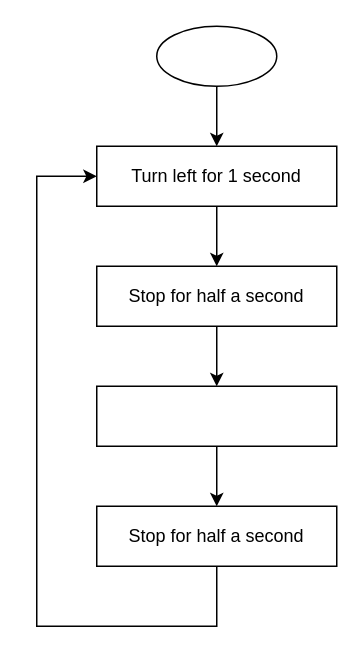
Some shapes in this 363 by 665 pixel diagram are drawn without their labels. The centre of each missing label's shape, as x and y in pixels:
"Start" belongs at pixel 216 55.
"Turn right for 1 second" belongs at pixel 216 415.
